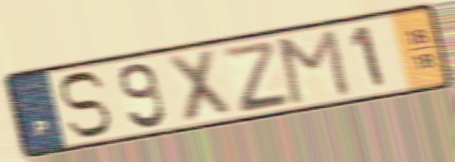1: (347, 23, 388, 90)
9: (118, 61, 168, 130)
M: (276, 26, 354, 108)
S: (55, 69, 115, 141)
X: (163, 45, 236, 126)
Z: (218, 38, 293, 116)
